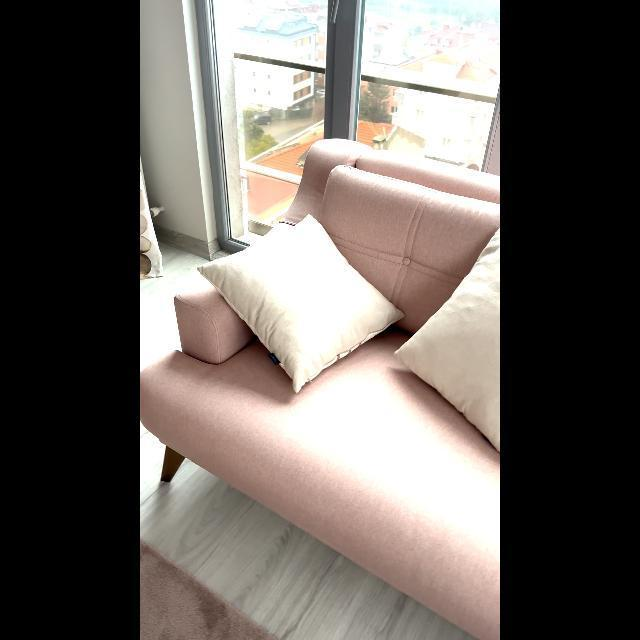throw pillow: (192, 211, 430, 393), (392, 215, 501, 470)
